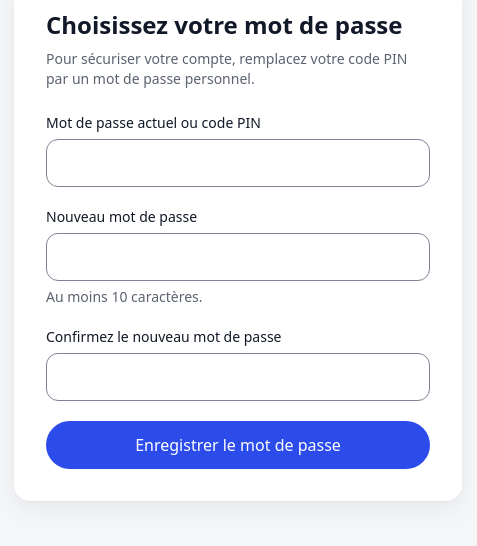
Test: ChangePasswordForm (fr) › refuses a short new password
Type "12345678" into the password field labelled "Mot de passe actuel ou code PIN" at (238, 163), box x1=46 y1=139 x2=430 y2=187
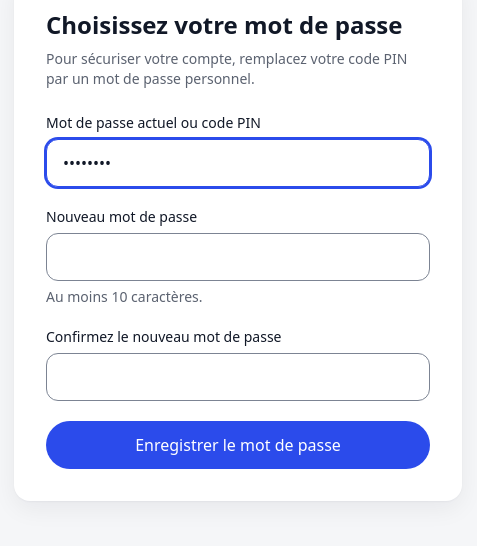
Type "short" into the password field labelled "Nouveau mot de passe" at (238, 257), box x1=46 y1=233 x2=430 y2=281
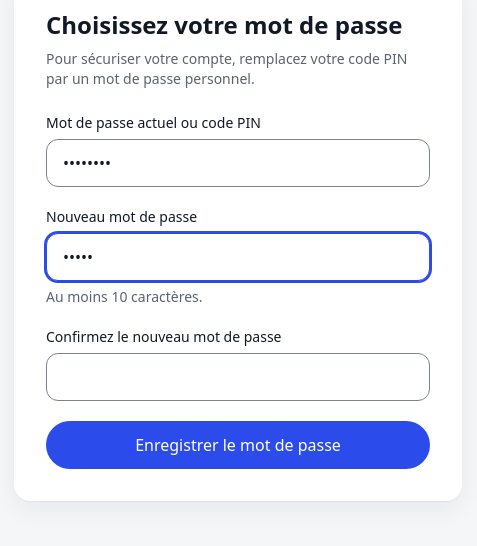
Type "short" into the password field labelled "Confirmez le nouveau mot de passe" at (238, 377), box x1=46 y1=353 x2=430 y2=401
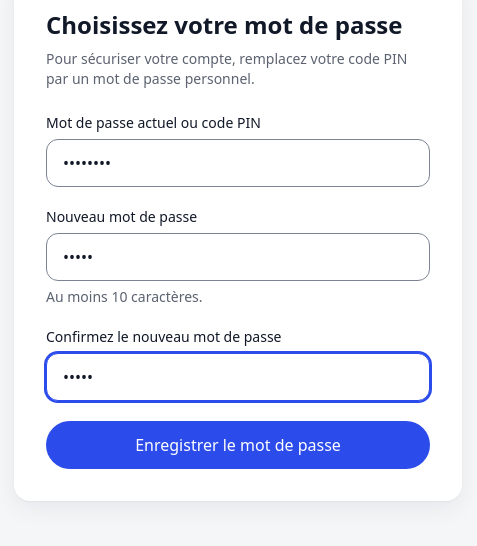
Click the button "Enregistrer le mot de passe" at (238, 445), box x1=46 y1=421 x2=430 y2=469
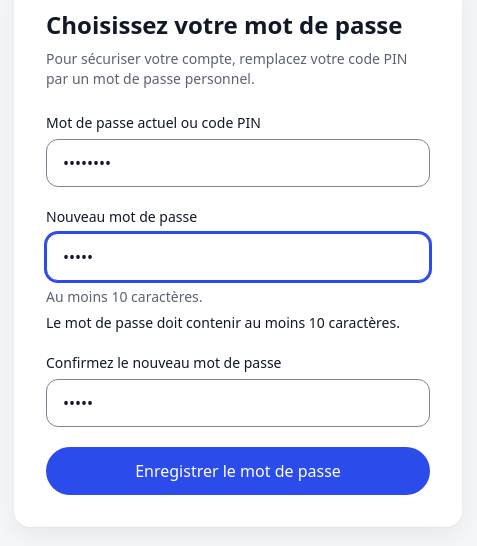
Check: the text "Le mot de passe doit contenir au moins 10 caractères." is shown, box x1=46 y1=313 x2=430 y2=333
